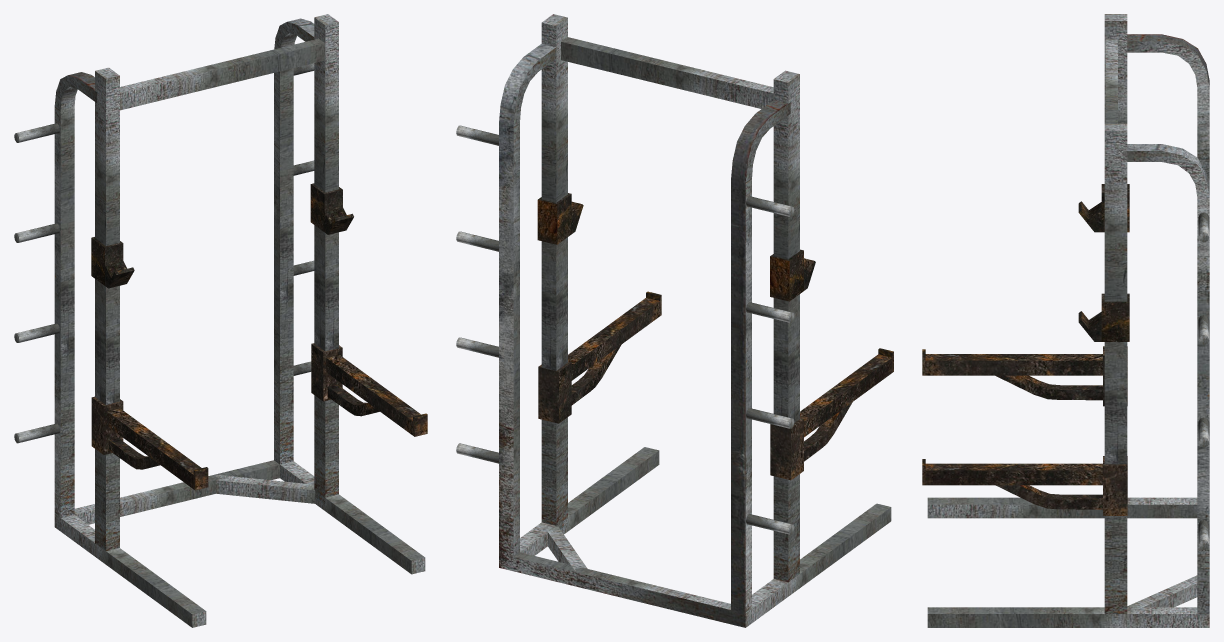
Rendered from squat_rack.fbx.
The picture shows the model from 3 angles, left to right: view 1: azimuth 30°, elevation 25°; view 2: azimuth 150°, elevation 25°; view 3: azimuth 270°, elevation 25°; orthographic projection. The views are drawn at different scales.
Visible parts, largest first — view 1: squat_rack_GEO; view 2: squat_rack_GEO; view 3: squat_rack_GEO.
Part boxes in pixels (x1,y1,x2,y2): squat_rack_GEO: (14,14,427,627); squat_rack_GEO: (456,14,893,627); squat_rack_GEO: (922,14,1209,627).
Size of the model in its own units: 225 by 332 by 174.
Materials: 1 (1 with a texture image).
